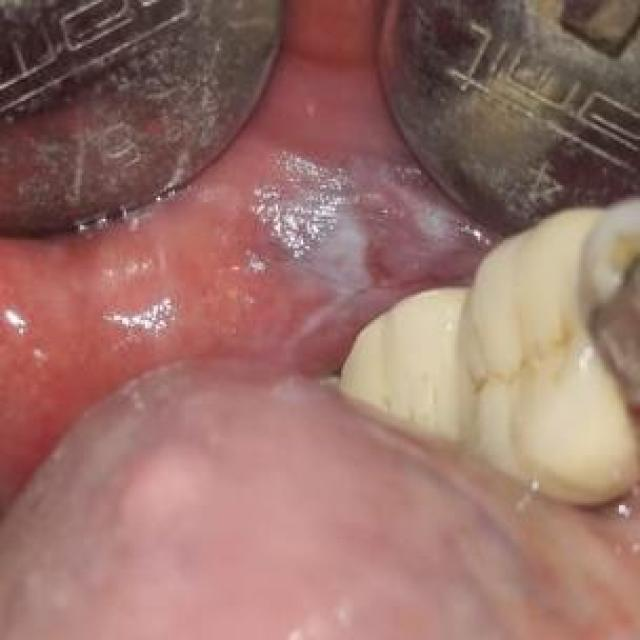leukoplakia-detection: (246, 146, 476, 347)
processing_area: (2, 5, 637, 638)
